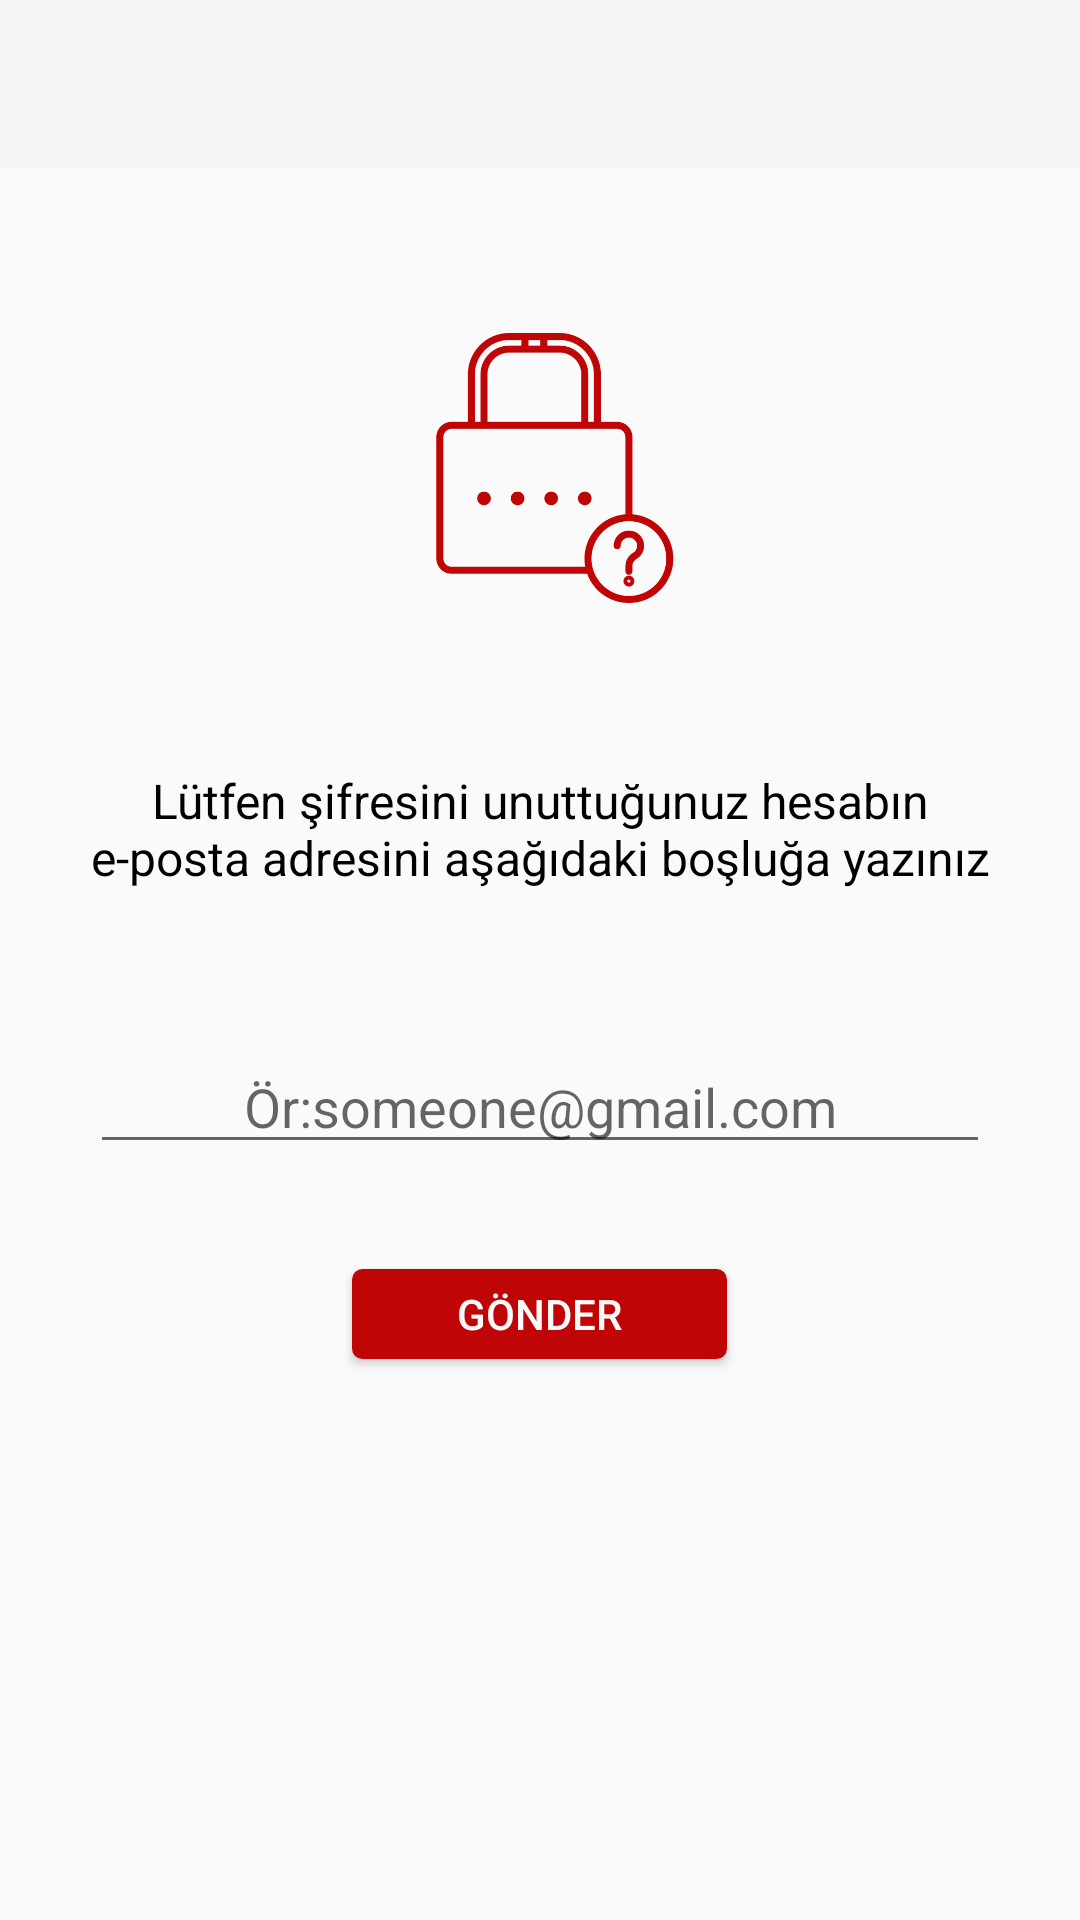

Icon click points for this 1080*1920 phone screenshot, format (x=x, y=y):
forgot: (x=555, y=468)
